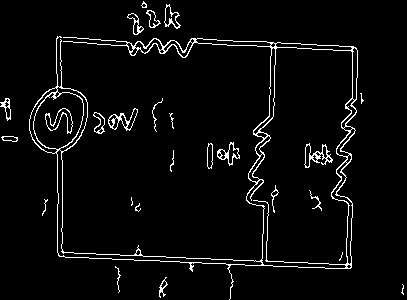resistor: (329, 86, 361, 217), (244, 108, 280, 222), (114, 35, 205, 59)
signal: (29, 80, 89, 162)
